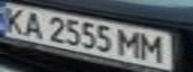2: (42, 14, 66, 45)
5: (93, 22, 118, 54), (78, 20, 100, 51), (63, 17, 84, 47)
A: (18, 9, 48, 38)
K: (0, 5, 30, 35)
M: (139, 33, 169, 64), (115, 28, 145, 58)
